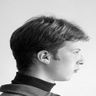ear: (34, 47, 54, 68)
